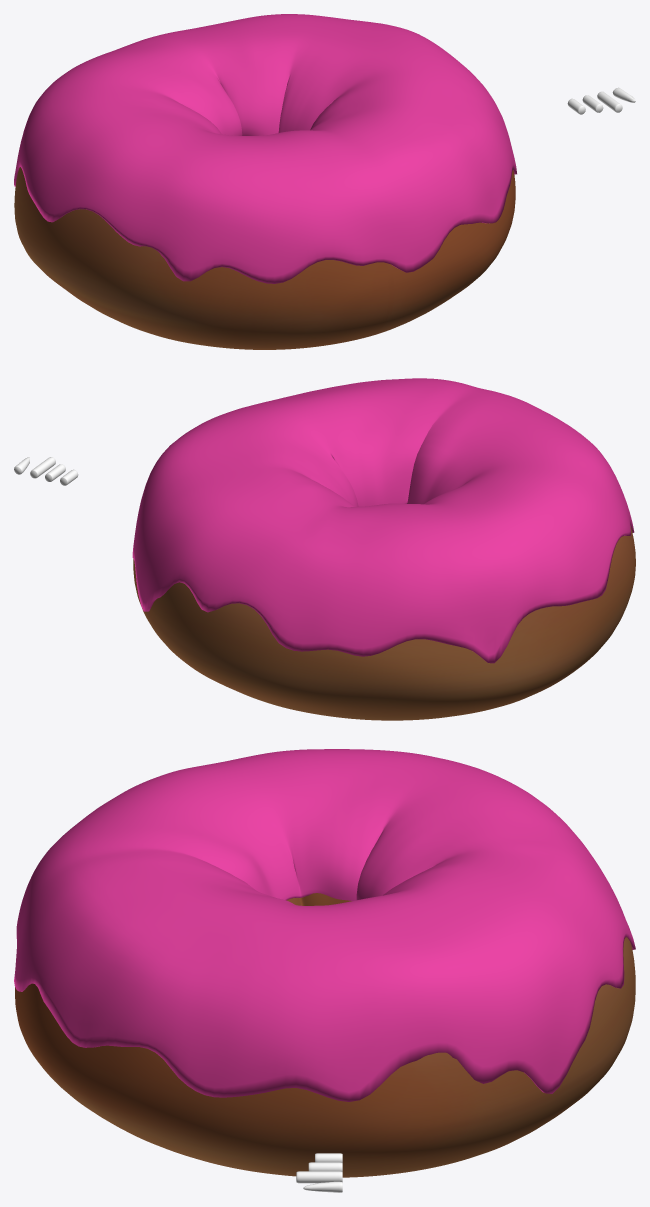
Rendered from doughnut.glb.
3 views of the same model, one above another, from view 1: azimuth 30°, elevation 25°; view 2: azimuth 150°, elevation 25°; view 3: azimuth 270°, elevation 25° (orthographic). The views are drawn at different scales.
Visible parts, largest first — view 1: BezierCircle.001, BezierCircle; view 2: BezierCircle.001, BezierCircle; view 3: BezierCircle.001, BezierCircle.
Boxes of the visible parts, x1,y1,x2,y2 form: BezierCircle.001: (14,14,516,283); BezierCircle: (14,167,515,349); BezierCircle.001: (132,378,634,663); BezierCircle: (133,526,635,720); BezierCircle.001: (14,749,635,1101); BezierCircle: (15,893,635,1177).
Bounding box in the file's own units: 0.3658 × 0.1168 × 0.2711.
3 materials, 1 textured.
